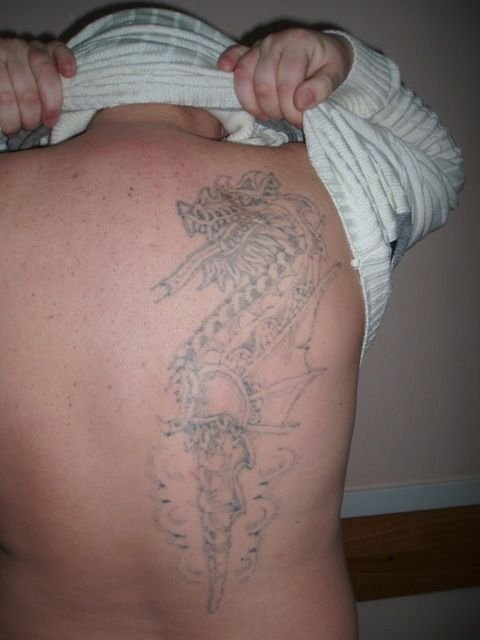tatu6_drakon: (136, 153, 357, 623)
